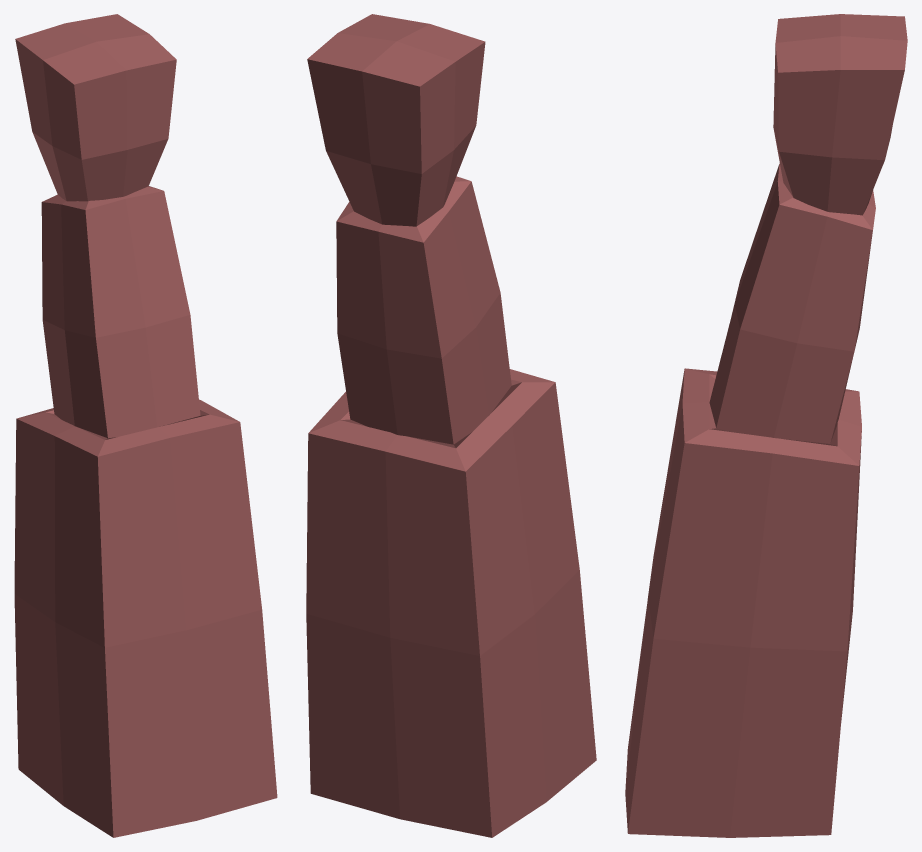
The model's file is StoneStructure_2.fbx.
3 renders of one model, left to right at view 1: azimuth 30°, elevation 25°; view 2: azimuth 150°, elevation 25°; view 3: azimuth 270°, elevation 25°, orthographic. The views are drawn at different scales.
Visible parts, largest first — view 1: Cube; view 2: Cube; view 3: Cube.
Boxes of the visible parts, box(x1,y1,x2,y2) form: Cube: box(14, 14, 277, 837); Cube: box(306, 14, 596, 837); Cube: box(625, 14, 907, 837).
Size of the model in its own units: 448 by 1809 by 607.
